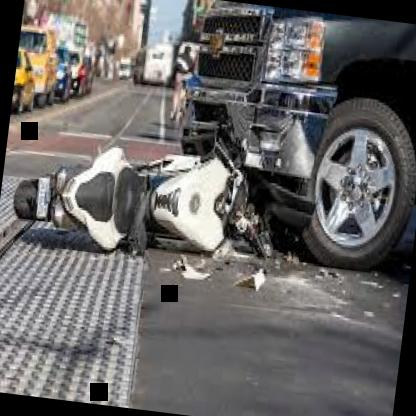accident: (2, 0, 380, 315)
